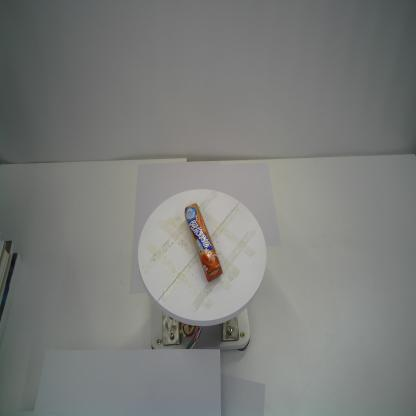Candy: (184, 202, 223, 283)
